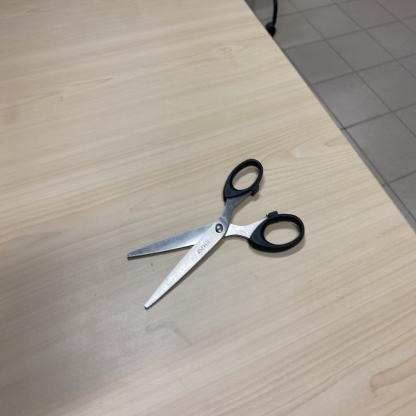scissors: (128, 155, 307, 311)
